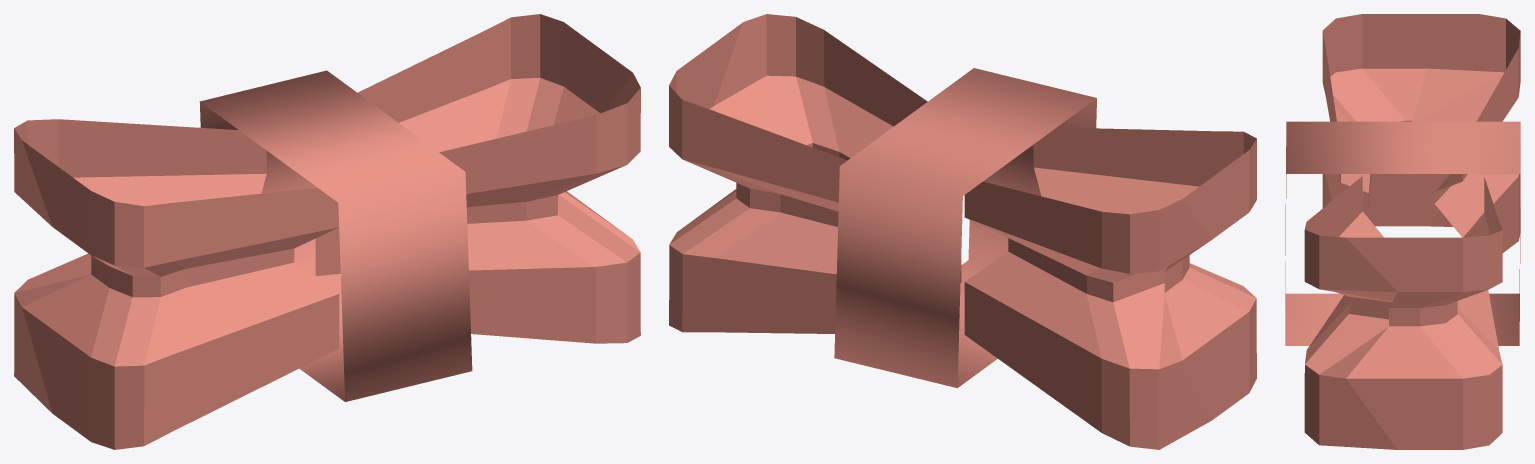
The model's file is ribbon 2.glb.
3 renders of one model, left to right at view 1: azimuth 30°, elevation 25°; view 2: azimuth 150°, elevation 25°; view 3: azimuth 270°, elevation 25°, orthographic. The views are drawn at different scales.
Visible parts, largest first — view 1: Cube.002, Cube, Cube.001; view 2: Cube.002, Cube, Cube.001; view 3: Cube, Cube.002, Cube.001.
Boxes of the visible parts, <box> form: Cube.002: <box>14,119,339,449</box>; Cube: <box>315,14,640,343</box>; Cube.001: <box>199,70,472,401</box>; Cube.002: <box>964,127,1256,449</box>; Cube: <box>669,14,961,333</box>; Cube.001: <box>834,68,1096,388</box>; Cube: <box>1304,176,1502,449</box>; Cube.002: <box>1322,14,1520,252</box>; Cube.001: <box>1285,121,1520,345</box>.
Bounding box in the file's own units: 4.44 × 2.04 × 2.01.
